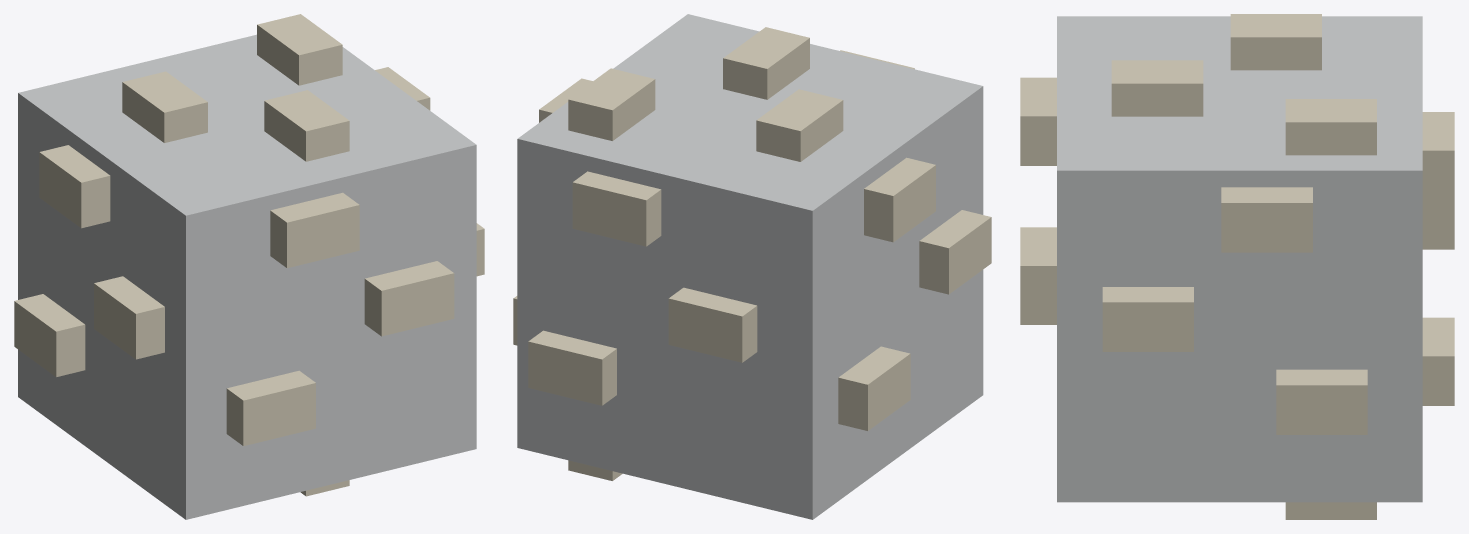
The model's file is iron.glb.
3 views of the same model, side by side, from view 1: azimuth 30°, elevation 25°; view 2: azimuth 150°, elevation 25°; view 3: azimuth 270°, elevation 25° (orthographic). The views are drawn at different scales.
Visible parts, largest first — view 1: Mesh_Mesh_head_geo.001_lambert2SG.001; view 2: Mesh_Mesh_head_geo.001_lambert2SG.001; view 3: Mesh_Mesh_head_geo.001_lambert2SG.001.
Part boxes in pixels (left/top/right/bottom): Mesh_Mesh_head_geo.001_lambert2SG.001: left=14, top=14, right=484, bottom=519; Mesh_Mesh_head_geo.001_lambert2SG.001: left=513, top=14, right=991, bottom=519; Mesh_Mesh_head_geo.001_lambert2SG.001: left=1020, top=14, right=1454, bottom=519.
Size of the model in its own units: 2.4 by 2.4 by 2.37.
